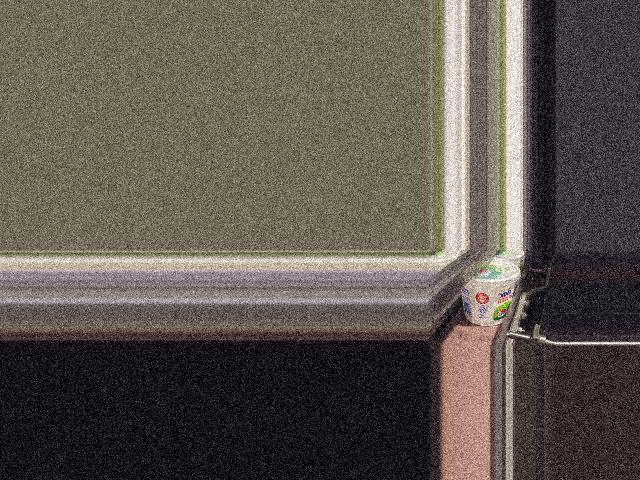cotage: (459, 258, 516, 324)
